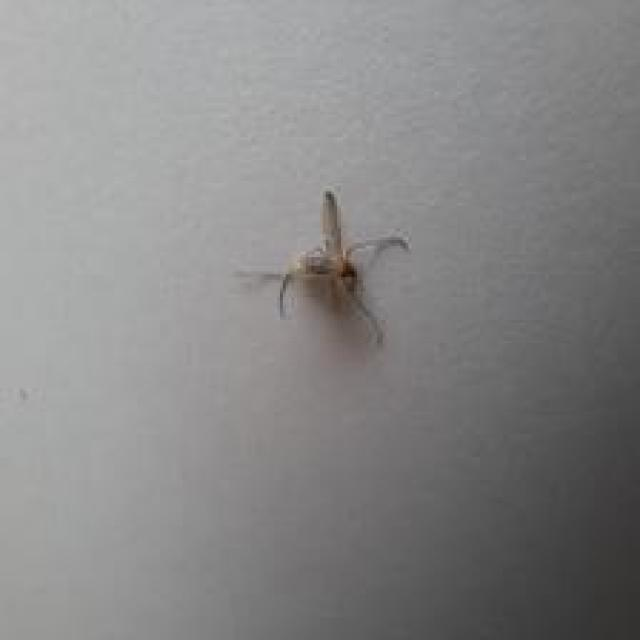Culex: (232, 188, 412, 348)
